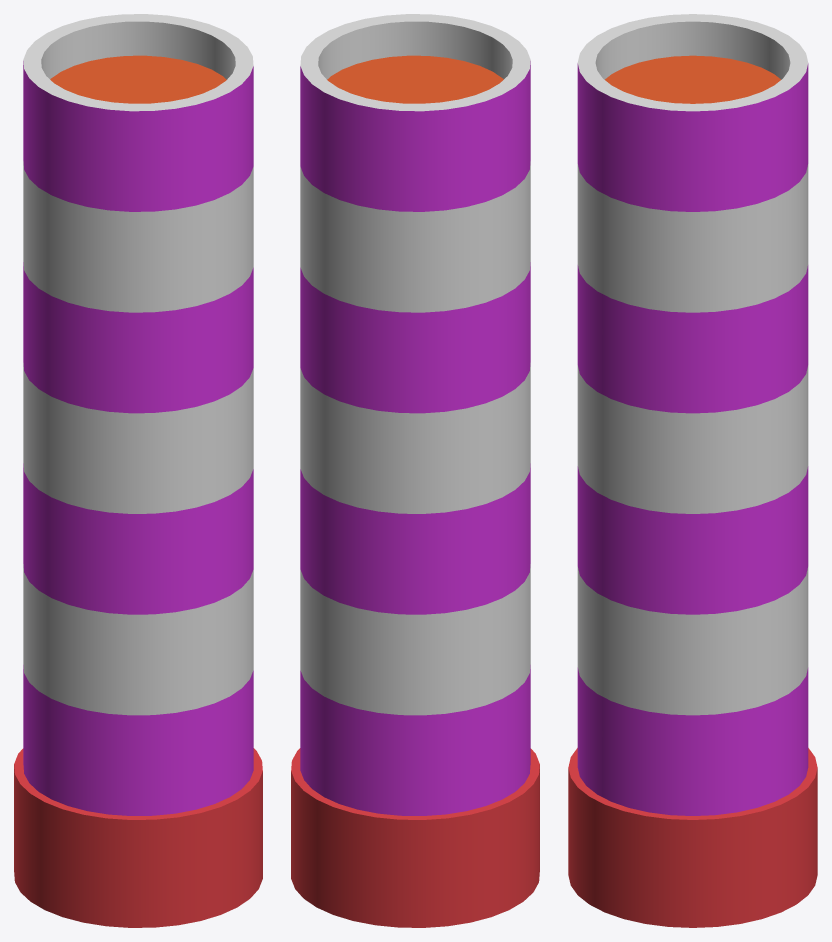
File: PartyPopper.fbx
The picture shows the model from 3 angles, left to right: view 1: azimuth 30°, elevation 25°; view 2: azimuth 150°, elevation 25°; view 3: azimuth 270°, elevation 25°; orthographic projection.
Parts seen in each view (by area): view 1: Cylinder; view 2: Cylinder; view 3: Cylinder.
Boxes of the visible parts, left/top/right/bottom form: Cylinder: left=14, top=14, right=262, bottom=927; Cylinder: left=291, top=14, right=539, bottom=927; Cylinder: left=568, top=14, right=817, bottom=927.
Bounding box in the file's own units: 53.05 × 191 × 53.05.
